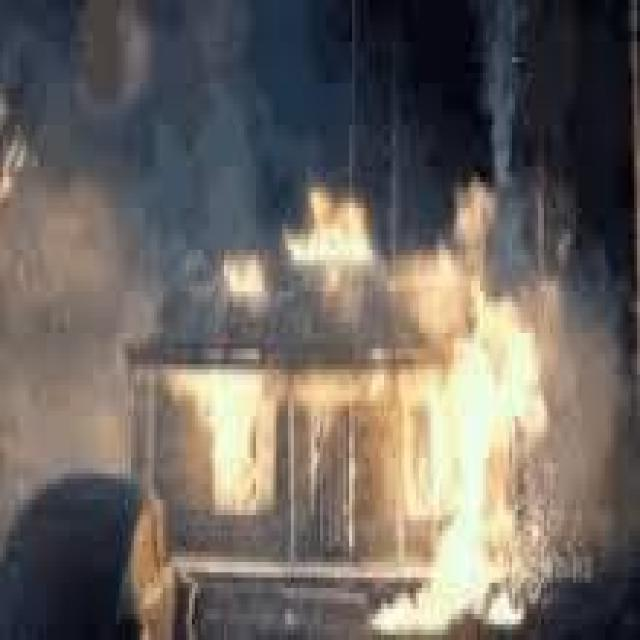fire: (279, 203, 570, 640)
smoke: (21, 48, 266, 441)
